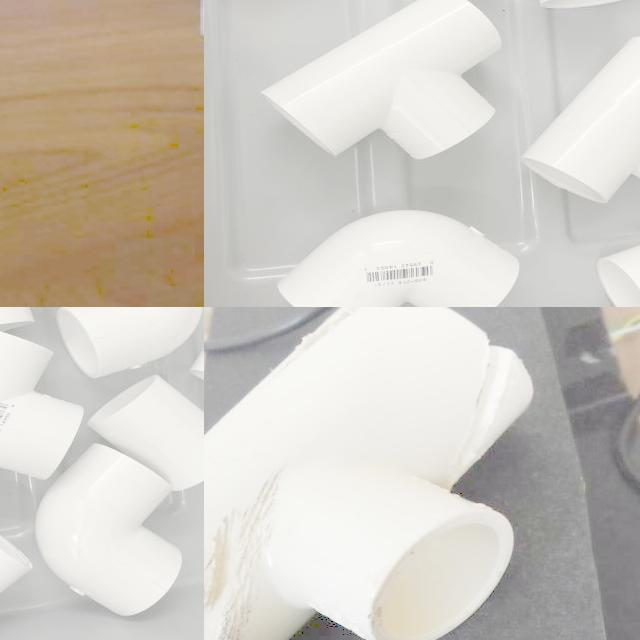Defective: (206, 469, 282, 640), (449, 344, 533, 486), (281, 307, 380, 368)
L Joint: (277, 210, 520, 307)
T Joint: (204, 307, 535, 640), (263, 0, 504, 164), (521, 37, 640, 205)
